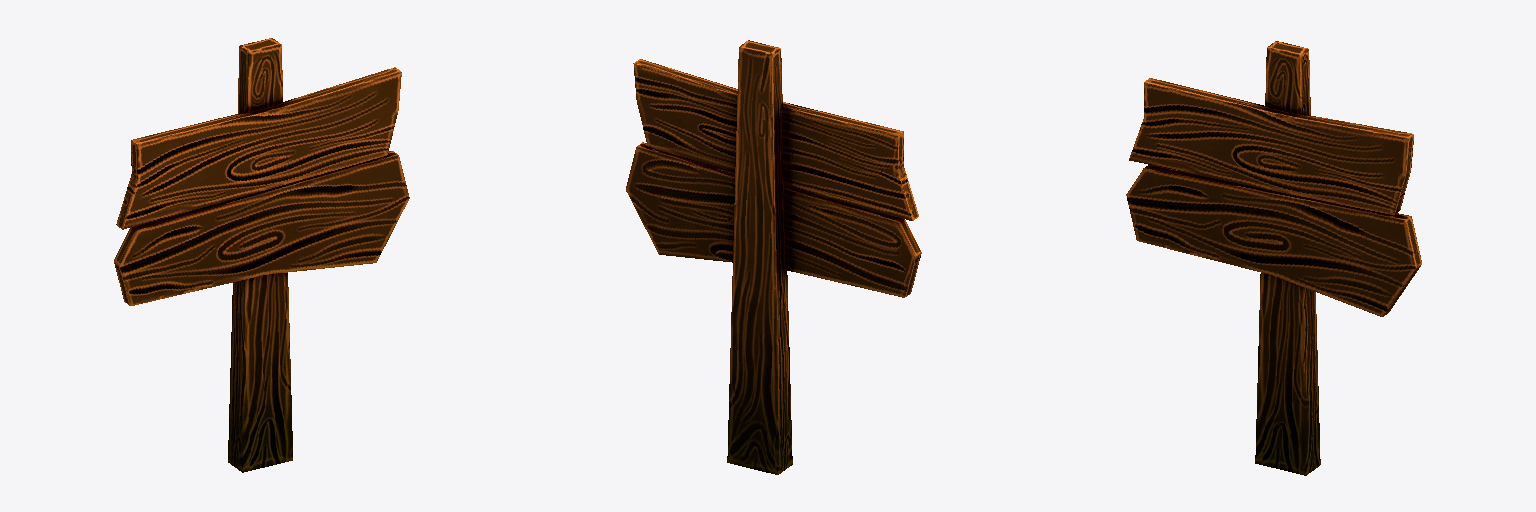
The picture shows the model from 3 angles: view 1: azimuth 30°, elevation 25°; view 2: azimuth 150°, elevation 25°; view 3: azimuth 330°, elevation 25°; orthographic projection.
Parts seen in each view (by area): view 1: sign2__0; view 2: sign2__0; view 3: sign2__0.
Part boxes in pixels (x1,y1,x2,y2): sign2__0: (114,38,409,472); sign2__0: (626,40,921,474); sign2__0: (1126,41,1421,475).
Bounding box in the file's own units: 1.25 × 1.72 × 0.1344.
1 materials, 1 textured.